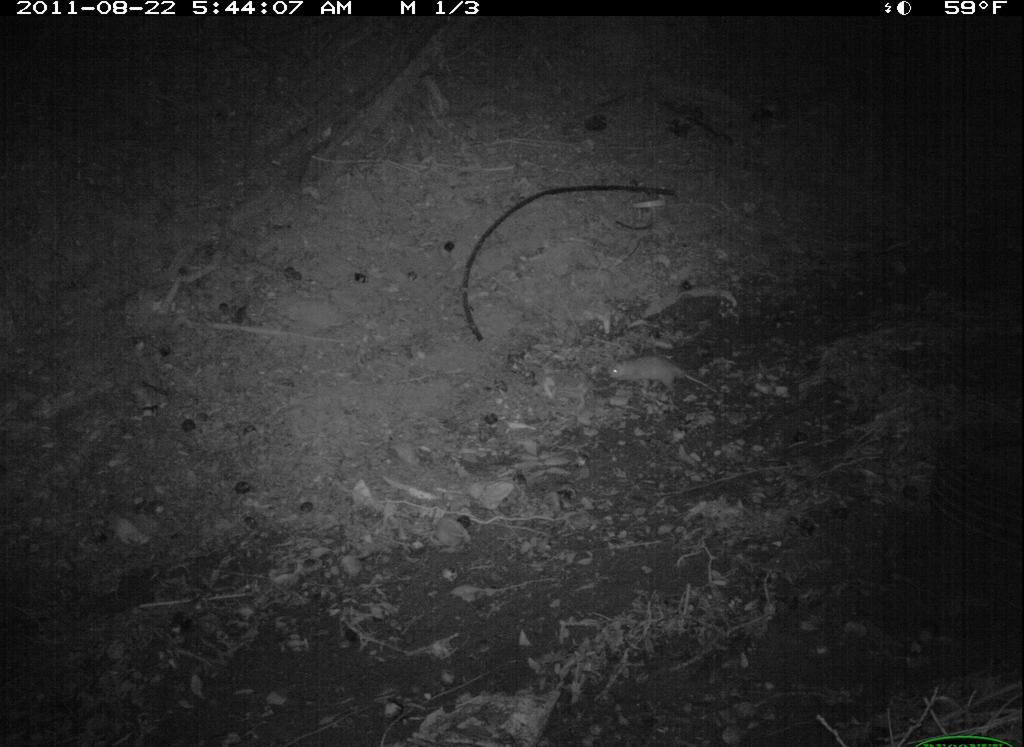opossum: (596, 354, 737, 410)
